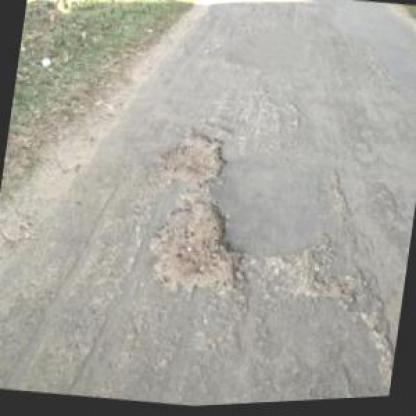pothole: (141, 191, 254, 304), (270, 242, 374, 314), (158, 126, 230, 192)
